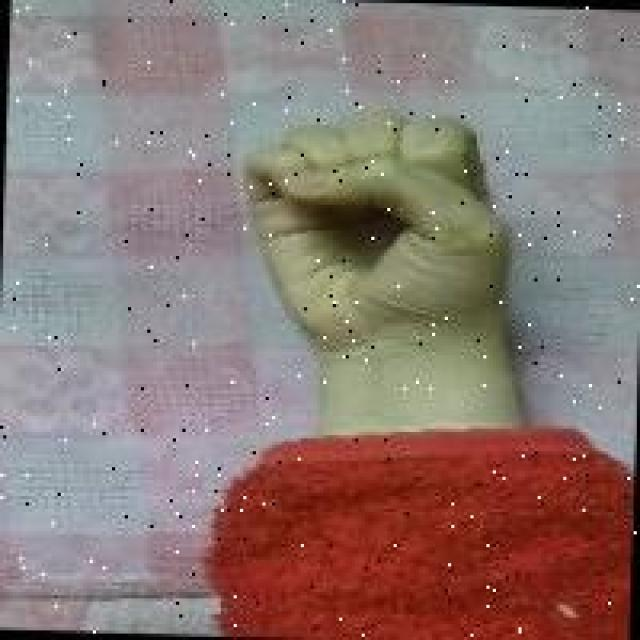E: (227, 99, 525, 352)
